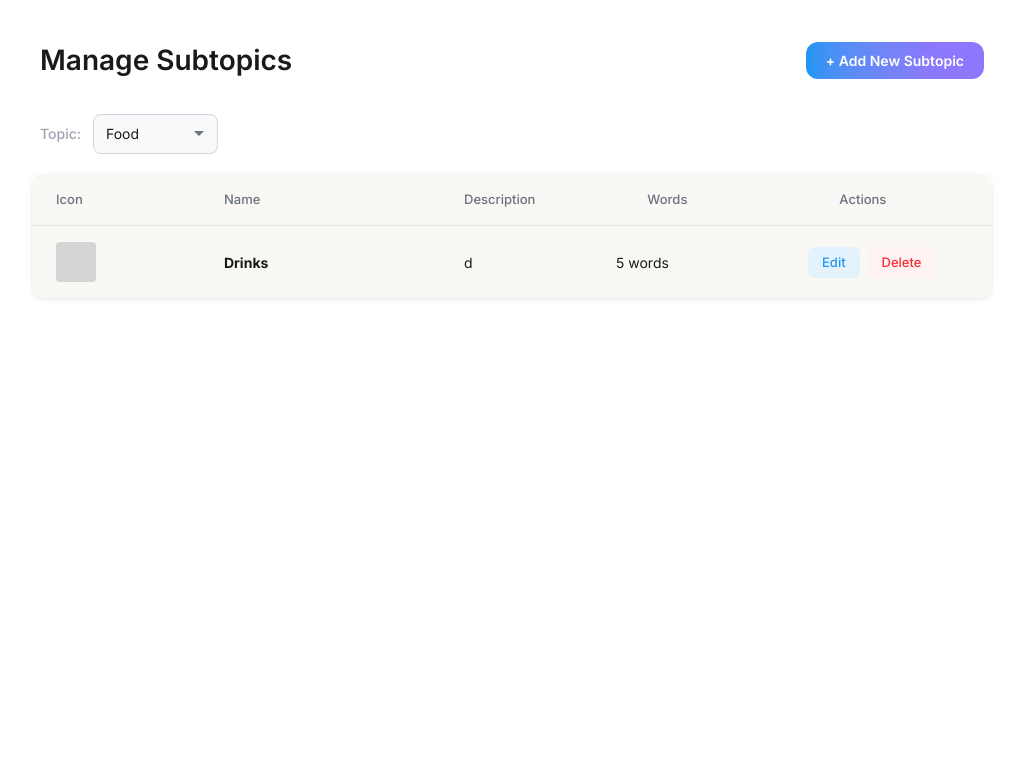
AdminSubtopics › opens the delete modal for a subtopic
Expected: the text "Drinks" is shown, [224,254,268,271]
Step 1. Click the button "Delete" → {"x": 902, "y": 262}, box [868,247,936,278]
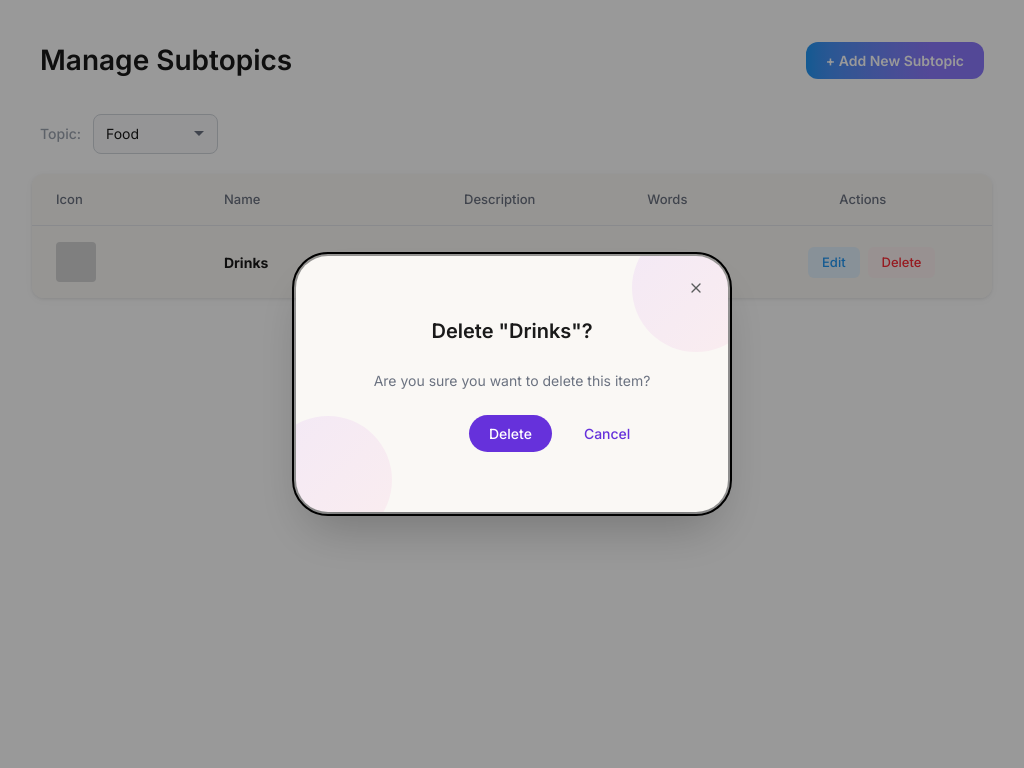
Expected: the heading "Delete \"Drinks\"?" is shown, [431,316,592,346]
